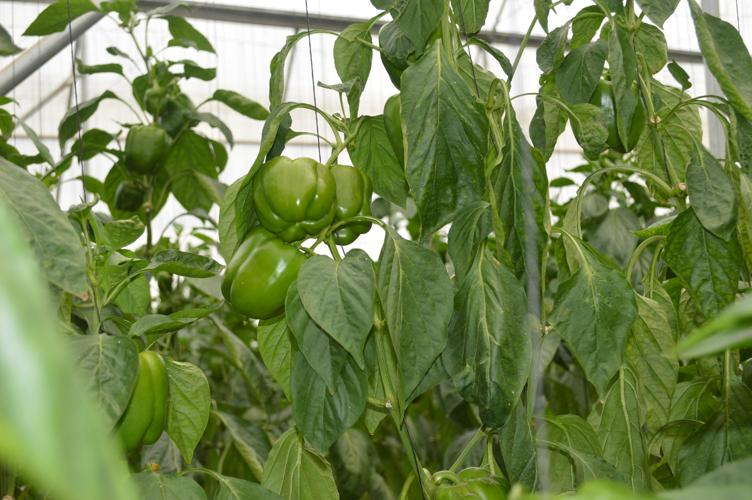BellPepper: (99, 344, 191, 442), (207, 234, 309, 316), (250, 158, 336, 232), (318, 153, 385, 243), (111, 126, 179, 173)
